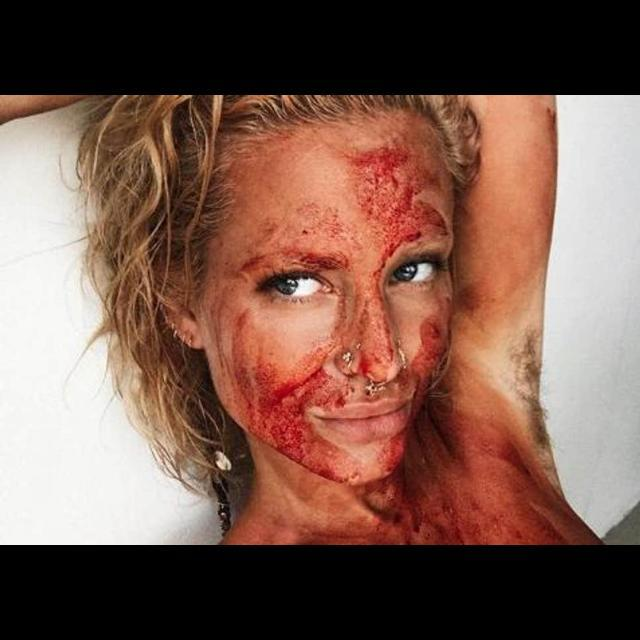blood: (200, 115, 598, 544)
